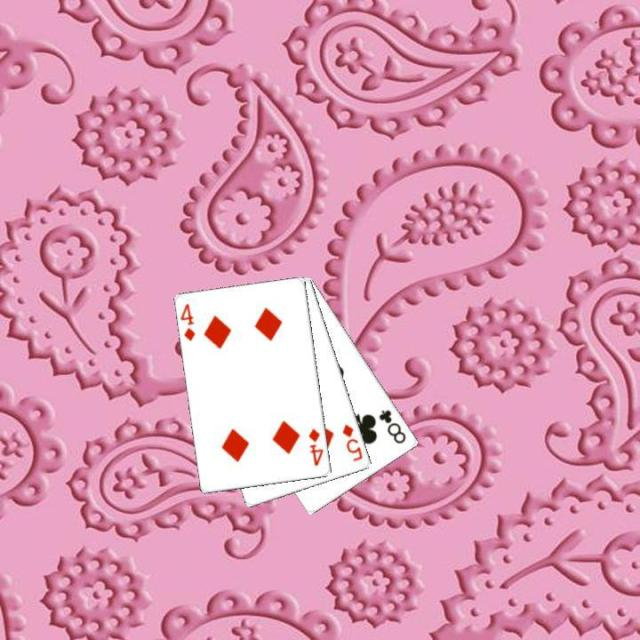4D: (305, 425, 325, 468), (178, 301, 197, 343)
5D: (338, 421, 364, 463)
8C: (375, 406, 408, 446)
